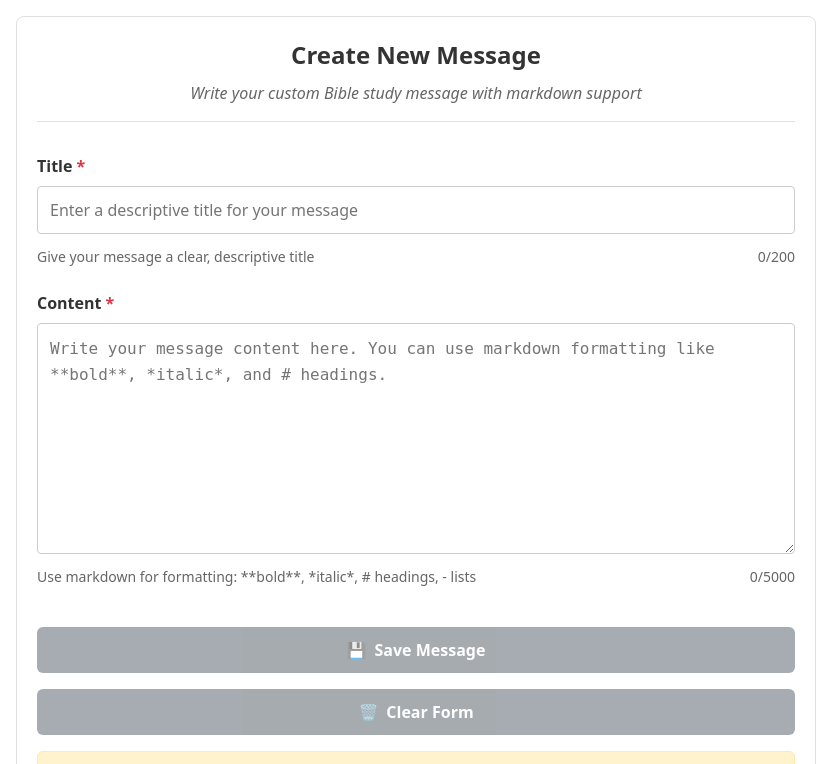
Test case: MessageEditor Component › Form Buttons › save button enables when form is valid
In the field labelled "Title *": (416, 210) [37,186,795,234], type "Test Title"
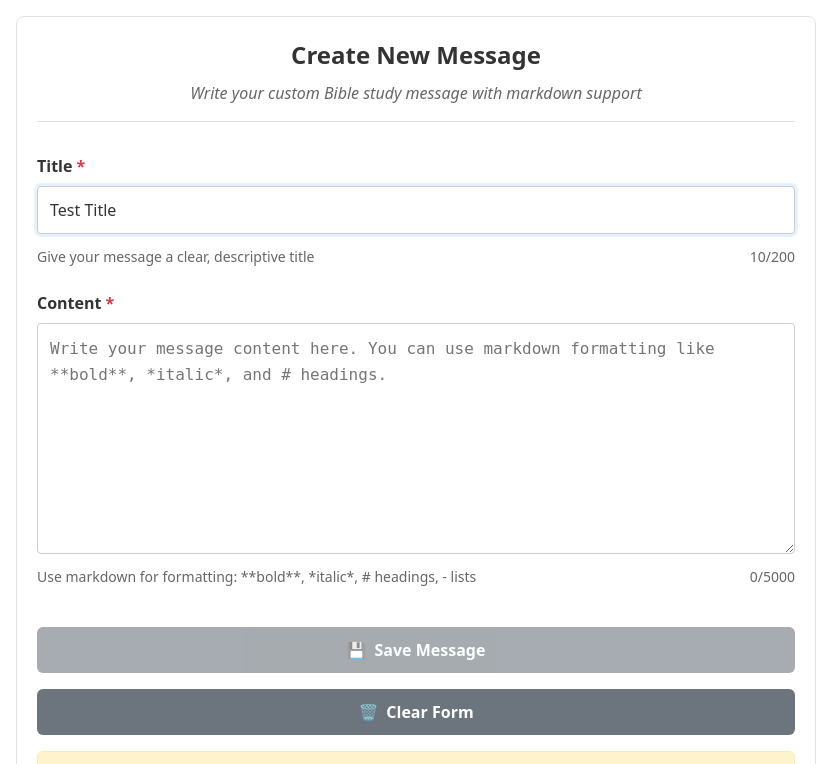
In the text box labelled "Content *": (416, 438) [37,323,795,554], type "Test content"
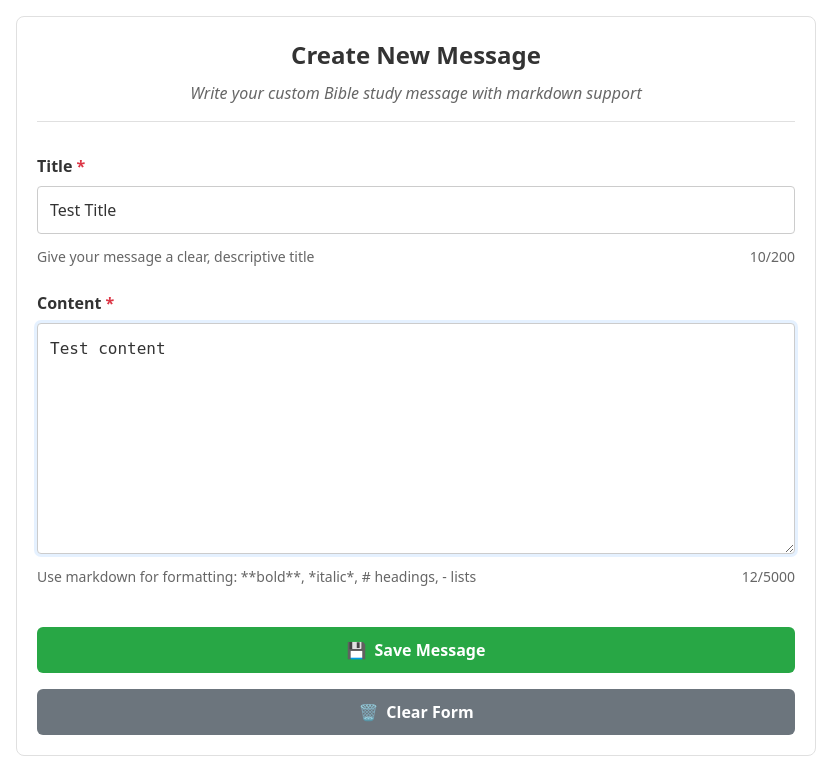
Result: the button "💾 Save Message" is enabled at [37,627,795,673]
